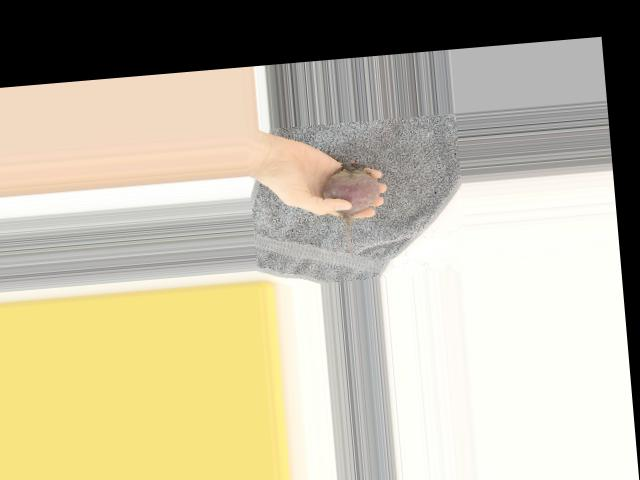beet: (320, 160, 386, 259)
